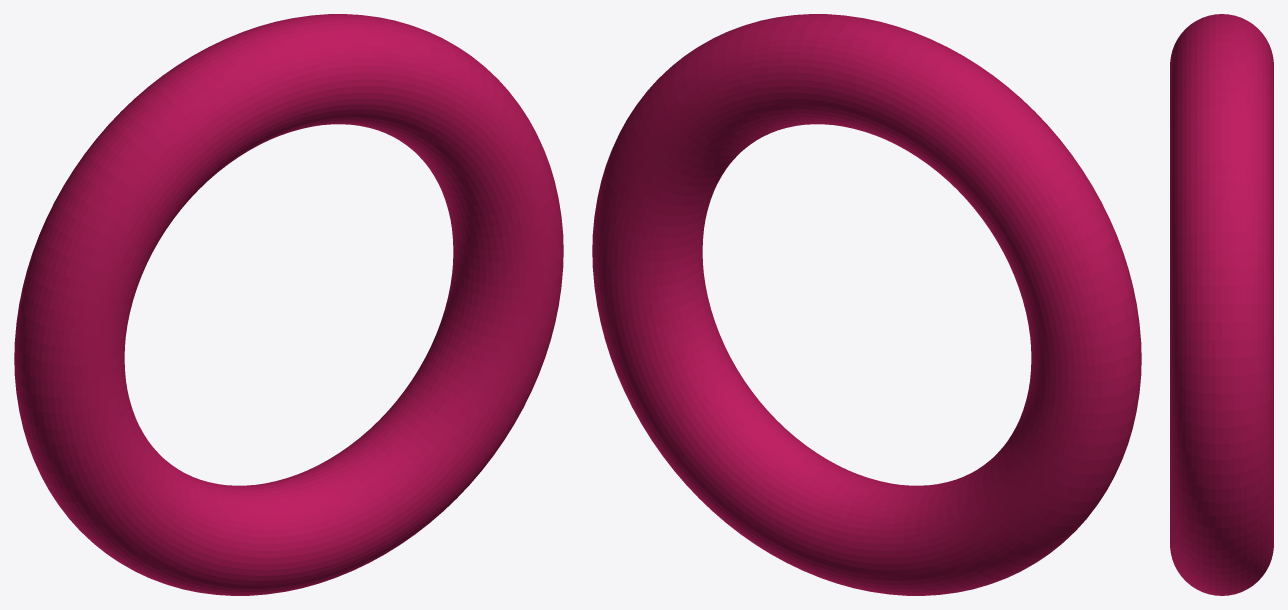
3 views of the same model, side by side, from view 1: azimuth 30°, elevation 25°; view 2: azimuth 150°, elevation 25°; view 3: azimuth 270°, elevation 25° (orthographic). The views are drawn at different scales.
Visible parts, largest first — view 1: world; view 2: world; view 3: world.
Part boxes in pixels (<box>): world: <box>14,14,563,595</box>; world: <box>592,14,1141,595</box>; world: <box>1170,14,1273,595</box>.
Bounding box in the file's own units: 27.6 × 27.6 × 4.92.
